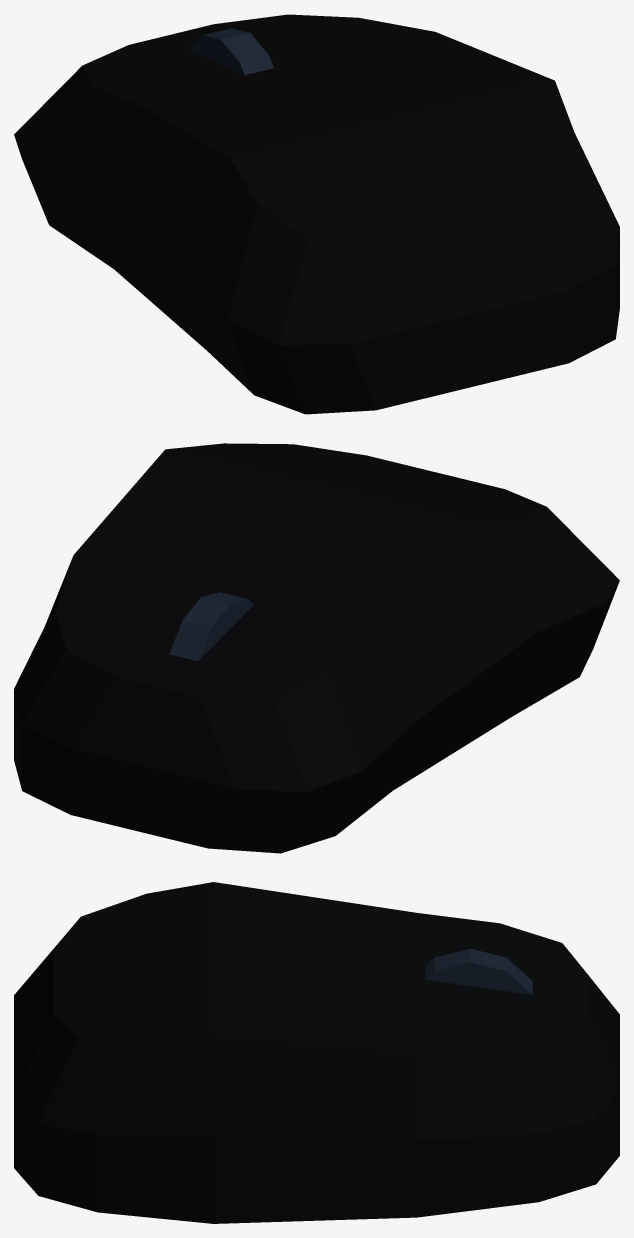
Rendered from mouse.glb.
3 views of the same model, one above another, from view 1: azimuth 30°, elevation 25°; view 2: azimuth 150°, elevation 25°; view 3: azimuth 270°, elevation 25° (orthographic). The views are drawn at different scales.
Parts seen in each view (by area): view 1: Mouse; view 2: Mouse; view 3: Mouse.
Boxes of the visible parts, x1,y1,x2,y2 form: Mouse: (14, 14, 619, 414); Mouse: (14, 443, 619, 853); Mouse: (14, 882, 619, 1223).
Size of the model in its own units: 0.0871 by 0.037 by 0.115.
1 material, 1 textured.
